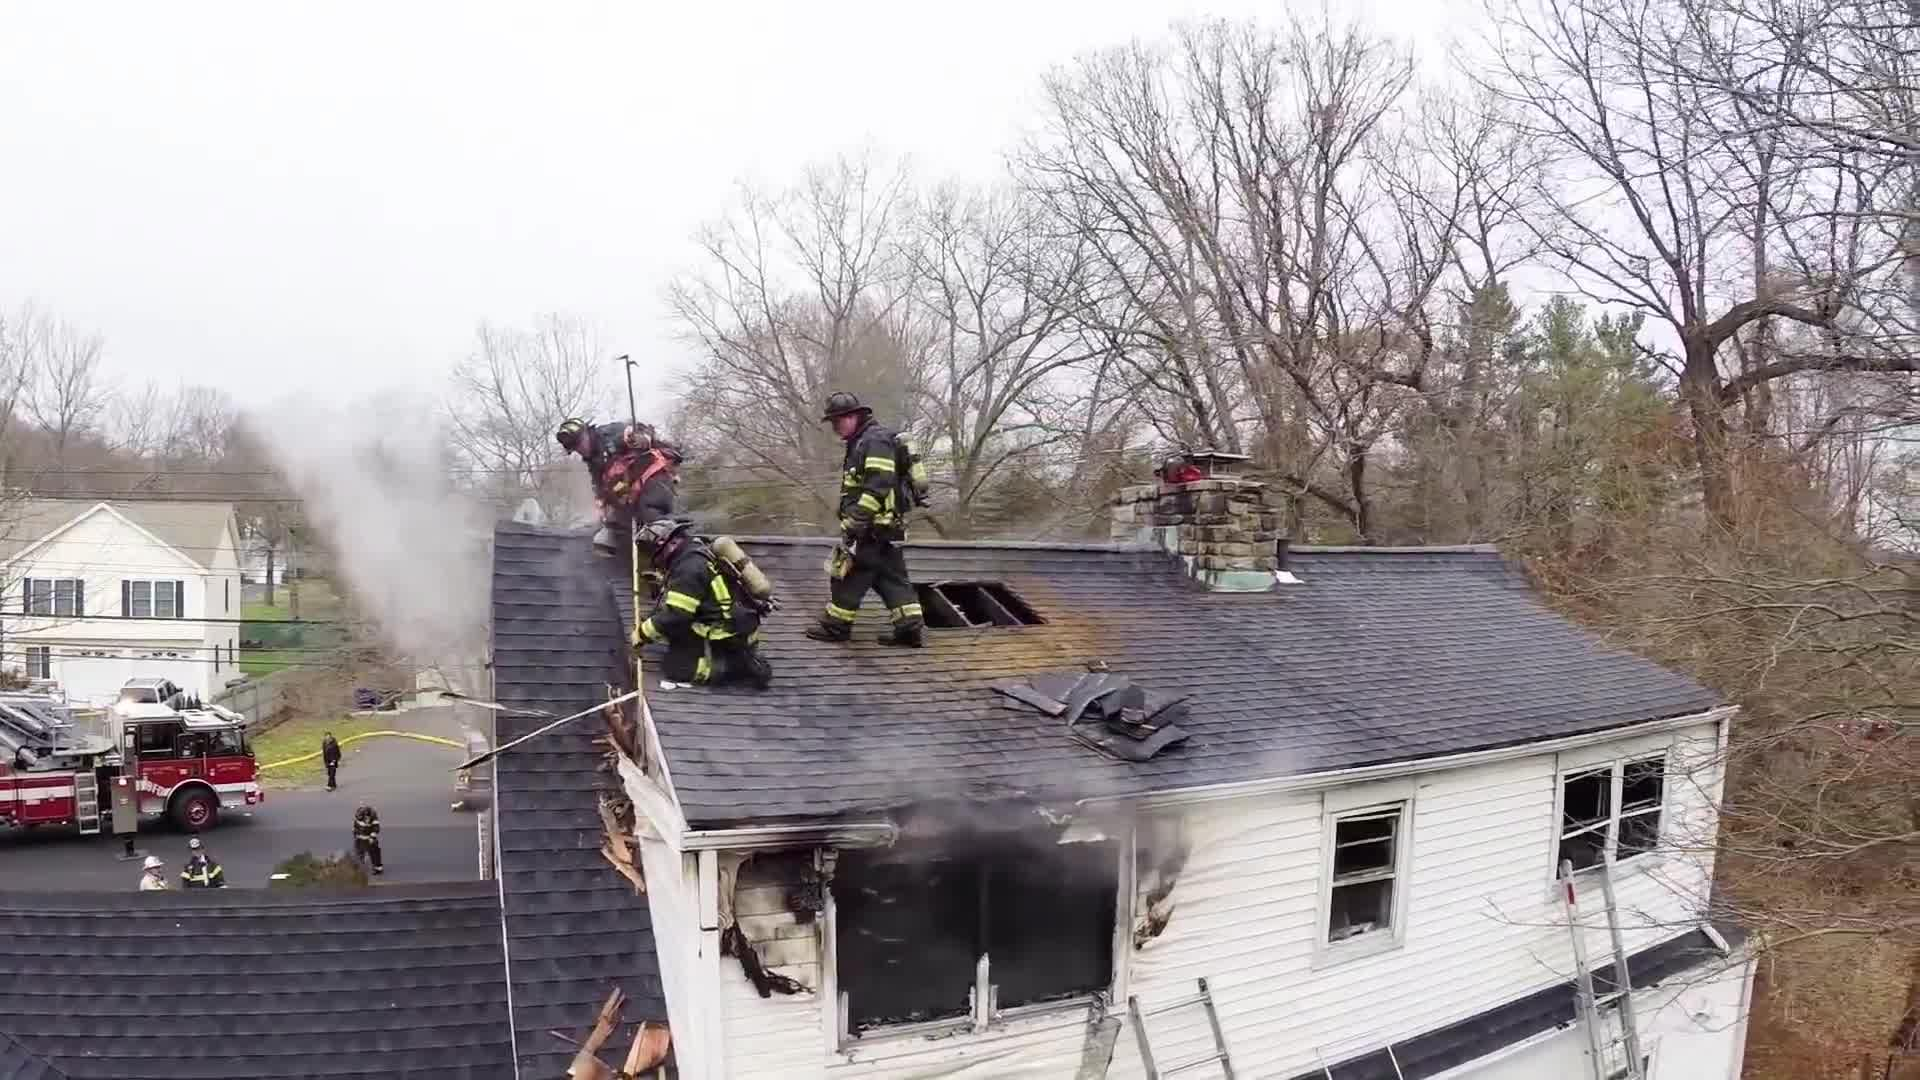smoke: (251, 406, 491, 671)
